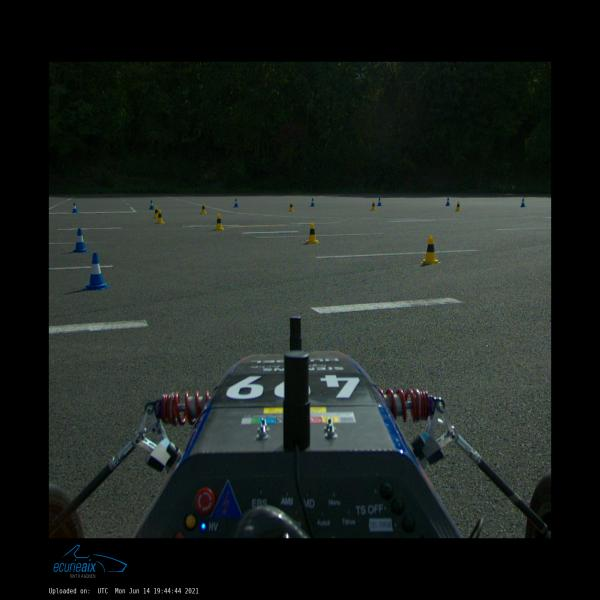blue_cone: (83, 253, 110, 290), (72, 228, 88, 253), (234, 198, 240, 208), (72, 203, 78, 213), (520, 198, 526, 207), (149, 200, 155, 209), (310, 198, 315, 207), (377, 198, 382, 206), (446, 198, 450, 206)
yellow_cone: (421, 236, 440, 264), (305, 222, 320, 244), (214, 214, 224, 230), (156, 209, 166, 224), (200, 203, 208, 214), (288, 201, 295, 212), (455, 201, 462, 211), (370, 201, 377, 210), (153, 206, 158, 218)
